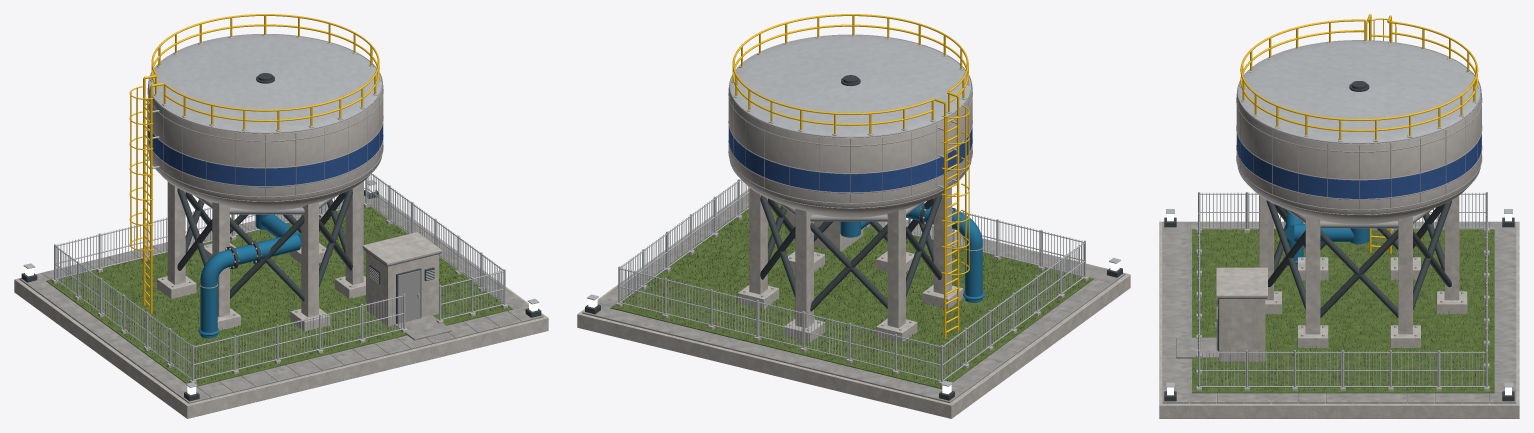
Rendered from tanque_agua.fbx.
The picture shows the model from 3 angles, left to right: view 1: azimuth 30°, elevation 25°; view 2: azimuth 150°, elevation 25°; view 3: azimuth 270°, elevation 25°; orthographic projection. The views are drawn at different scales.
Visible parts, largest first — view 1: Solar · Pradera, Depósito elevado · Inox cepillado, Vallado galvanizado · Inox cepillado, Depósito elevado · Aluminio satinado, Solar · Loseta mineral, Bastidor y cimentaciones · Prefabricado caliza, Solar · Prefabricado caliza, Acceso a cubierta · Amarillo de pasarelas, Caseta de válvulas · Prefabricado caliza, Bastidor y cimentaciones · Perfilería antracita, Depósito elevado · Azul cobalto vitrificado, Depósito elevado · Soldaduras satinadas (+9 smaller); view 2: Solar · Pradera, Depósito elevado · Inox cepillado, Vallado galvanizado · Inox cepillado, Depósito elevado · Aluminio satinado, Solar · Loseta mineral, Bastidor y cimentaciones · Prefabricado caliza, Solar · Prefabricado caliza, Acceso a cubierta · Amarillo de pasarelas, Bastidor y cimentaciones · Perfilería antracita, Depósito elevado · Azul cobalto vitrificado, Depósito elevado · Soldaduras satinadas, Paisajismo · Hierba 2 (+6 smaller); view 3: Solar · Pradera, Depósito elevado · Inox cepillado, Depósito elevado · Aluminio satinado, Solar · Loseta mineral, Bastidor y cimentaciones · Prefabricado caliza, Vallado galvanizado · Inox cepillado, Solar · Prefabricado caliza, Bastidor y cimentaciones · Perfilería antracita, Depósito elevado · Azul cobalto vitrificado, Caseta de válvulas · Prefabricado caliza, Acceso a cubierta · Amarillo de pasarelas, Paisajismo · Hierba 2 (+8 smaller).
Boxes of the visible parts, box(x1,y1,x2,y2) form: Solar · Pradera: box(46, 205, 512, 386); Depósito elevado · Inox cepillado: box(149, 34, 381, 132); Vallado galvanizado · Inox cepillado: box(54, 173, 505, 380); Depósito elevado · Aluminio satinado: box(148, 84, 382, 210); Solar · Loseta mineral: box(19, 195, 543, 403); Bastidor y cimentaciones · Prefabricado caliza: box(156, 181, 365, 331); Solar · Prefabricado caliza: box(14, 194, 548, 418); Acceso a cubierta · Amarillo de pasarelas: box(129, 14, 379, 313); Caseta de válvulas · Prefabricado caliza: box(362, 232, 442, 326); Bastidor y cimentaciones · Perfilería antracita: box(177, 188, 352, 301); Depósito elevado · Azul cobalto vitrificado: box(148, 124, 382, 186); Depósito elevado · Soldaduras satinadas: box(147, 34, 383, 201); Solar · Pradera: box(610, 201, 1093, 389); Depósito elevado · Inox cepillado: box(730, 35, 970, 136); Vallado galvanizado · Inox cepillado: box(618, 179, 1085, 381); Depósito elevado · Aluminio satinado: box(729, 84, 972, 217); Solar · Loseta mineral: box(582, 190, 1125, 403); Bastidor y cimentaciones · Prefabricado caliza: box(738, 187, 963, 342); Solar · Prefabricado caliza: box(577, 189, 1130, 418); Acceso a cubierta · Amarillo de pasarelas: box(732, 14, 969, 338); Bastidor y cimentaciones · Perfilería antracita: box(760, 194, 941, 311); Depósito elevado · Azul cobalto vitrificado: box(729, 128, 972, 192); Depósito elevado · Soldaduras satinadas: box(728, 34, 972, 208); Paisajismo · Hierba 2: box(619, 202, 1085, 386); Solar · Pradera: box(1192, 229, 1494, 393); Depósito elevado · Inox cepillado: box(1238, 40, 1480, 142); Depósito elevado · Aluminio satinado: box(1237, 90, 1481, 224); Solar · Loseta mineral: box(1162, 221, 1516, 403); Bastidor y cimentaciones · Prefabricado caliza: box(1259, 195, 1467, 347); Vallado galvanizado · Inox cepillado: box(1198, 192, 1487, 387); Solar · Prefabricado caliza: box(1159, 221, 1519, 418); Bastidor y cimentaciones · Perfilería antracita: box(1266, 200, 1451, 317); Depósito elevado · Azul cobalto vitrificado: box(1237, 134, 1481, 198); Caseta de válvulas · Prefabricado caliza: box(1216, 267, 1267, 361); Acceso a cubierta · Amarillo de pasarelas: box(1240, 14, 1478, 253); Paisajismo · Hierba 2: box(1193, 229, 1493, 391).
Bounding box in the file's own units: 11.4 × 7.37 × 9.45.
15 materials, 7 textured.
